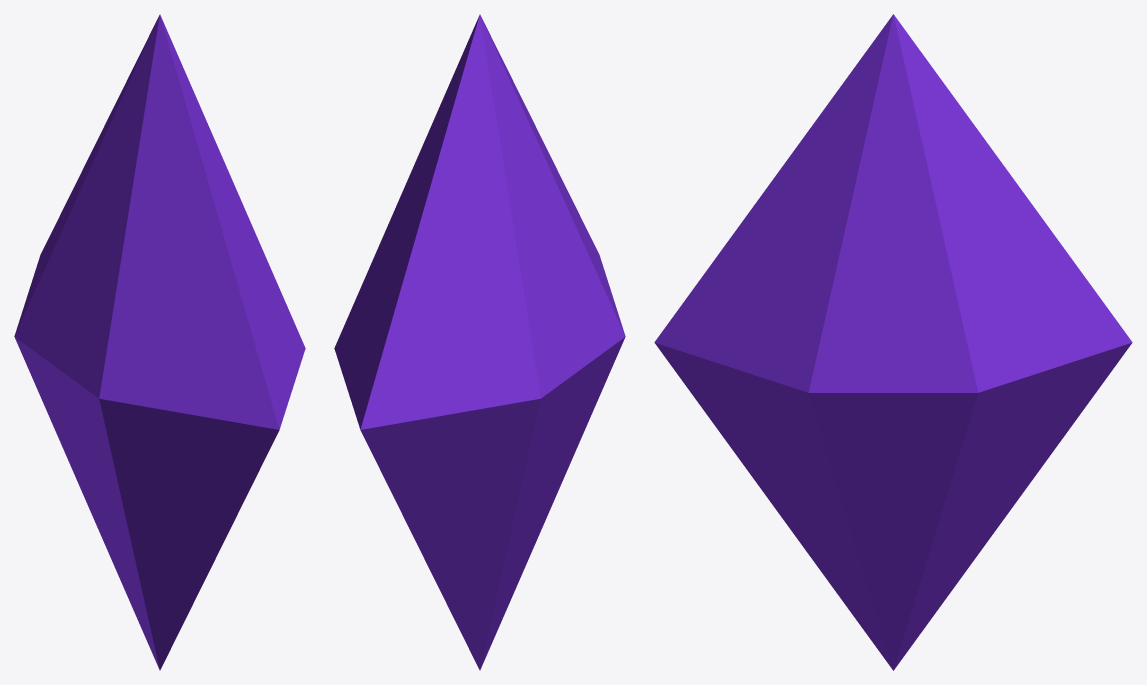
File: deraumere.obj
The picture shows the model from 3 angles, left to right: view 1: azimuth 30°, elevation 25°; view 2: azimuth 150°, elevation 25°; view 3: azimuth 270°, elevation 25°; orthographic projection.
Parts seen in each view (by area): view 1: Amethyst_Plane.006; view 2: Amethyst_Plane.006; view 3: Amethyst_Plane.006.
Part boxes in pixels (<box>): Amethyst_Plane.006: <box>14,14,305,670</box>; Amethyst_Plane.006: <box>334,14,625,670</box>; Amethyst_Plane.006: <box>654,14,1132,670</box>.
Size of the model in its own units: 0.365 by 1.11 by 0.7324.
